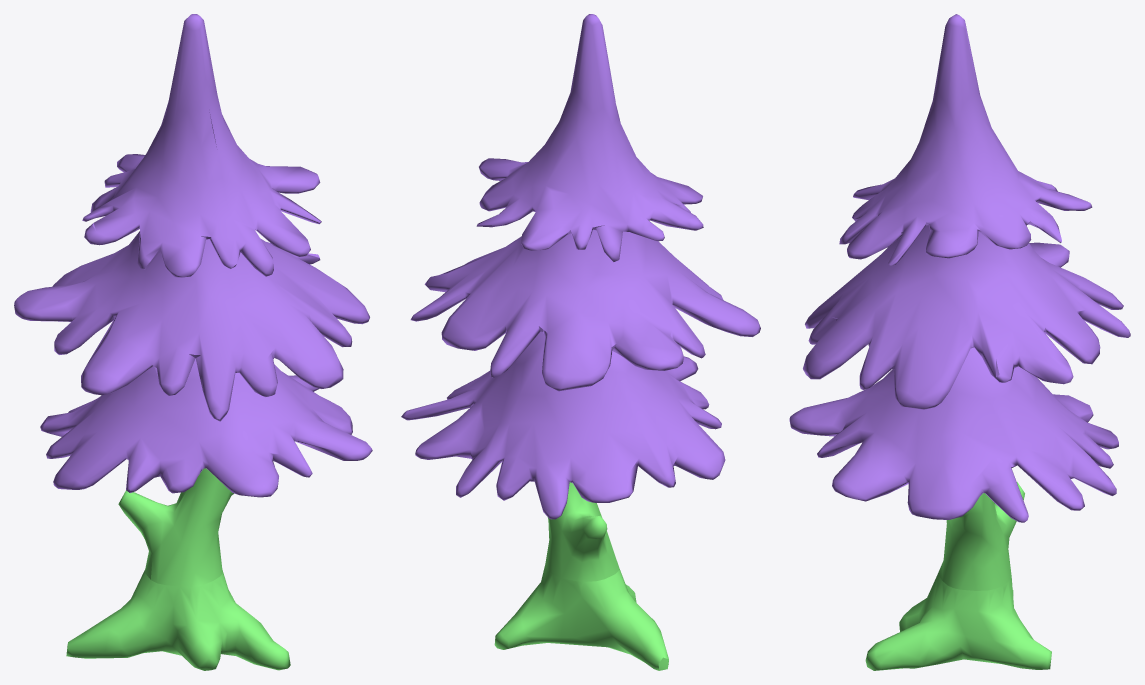
Rendered from songshu.FBX.
3 views of the same model, side by side, from view 1: azimuth 30°, elevation 25°; view 2: azimuth 150°, elevation 25°; view 3: azimuth 270°, elevation 25° (orthographic). The views are drawn at different scales.
Visible parts, largest first — view 1: shu, dizuo; view 2: shu, dizuo; view 3: shu, dizuo.
Boxes of the visible parts, box(x1,y1,x2,y2) form: shu: box(14, 14, 372, 586); dizuo: box(66, 569, 290, 670); shu: box(401, 14, 760, 581); dizuo: box(494, 565, 668, 670); shu: box(789, 14, 1130, 590); dizuo: box(865, 574, 1051, 670).
Size of the model in its own units: 68.28 by 136 by 66.65.
